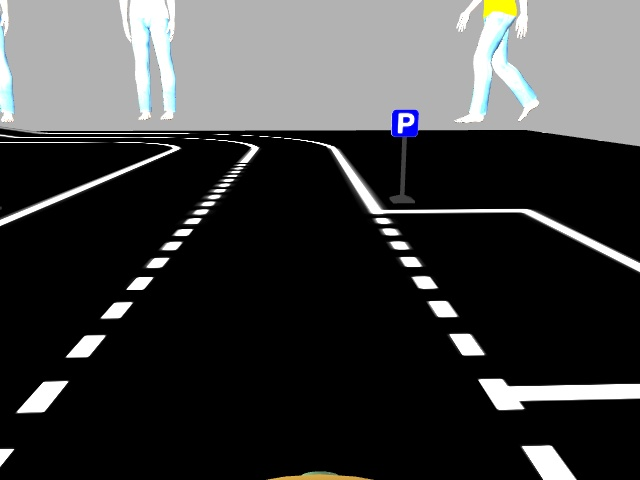Parking: (388, 109, 420, 138)
